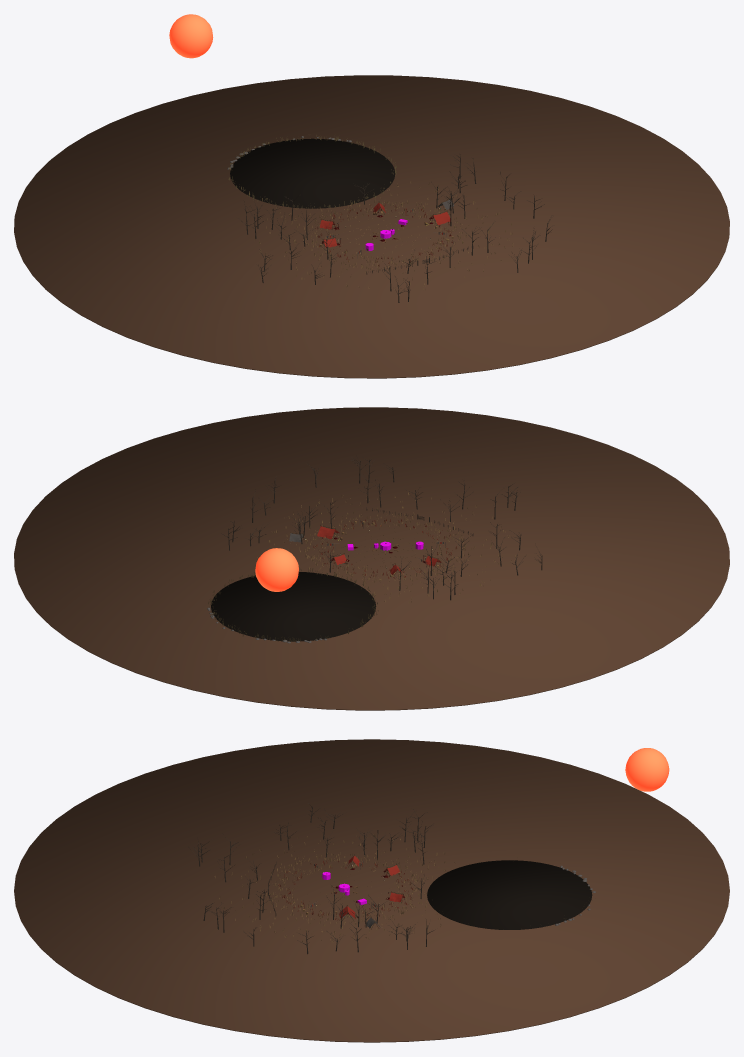
Rendered from passaros.glb.
3 renders of one model, top to bottom at view 1: azimuth 30°, elevation 25°; view 2: azimuth 150°, elevation 25°; view 3: azimuth 270°, elevation 25°, orthographic.
Visible parts, largest first — view 1: GROUND_earth, GROUND_lake, static_MAT_CLOTH_dead_wood, moon, static_MAT_CLOTH_dry_grass; view 2: GROUND_earth, GROUND_lake, static_MAT_CLOTH_dead_wood, moon, static_MAT_CLOTH_dry_grass; view 3: GROUND_earth, GROUND_lake, static_MAT_CLOTH_dead_wood, moon, static_MAT_CLOTH_dry_grass.
Part boxes in pixels (left/top/right/bottom): GROUND_earth: left=14, top=75, right=729, bottom=378; GROUND_lake: left=230, top=138, right=395, bottom=208; static_MAT_CLOTH_dead_wood: left=238, top=154, right=552, bottom=302; moon: left=169, top=14, right=213, bottom=58; static_MAT_CLOTH_dry_grass: left=254, top=181, right=513, bottom=289; GROUND_earth: left=14, top=407, right=729, bottom=710; GROUND_lake: left=211, top=572, right=376, bottom=641; static_MAT_CLOTH_dead_wood: left=221, top=456, right=542, bottom=600; moon: left=255, top=548, right=298, bottom=591; static_MAT_CLOTH_dry_grass: left=257, top=492, right=515, bottom=603; GROUND_earth: left=14, top=739, right=729, bottom=1042; GROUND_lake: left=427, top=860, right=592, bottom=929; static_MAT_CLOTH_dead_wood: left=188, top=803, right=435, bottom=954; moon: left=625, top=748, right=669, bottom=791; static_MAT_CLOTH_dry_grass: left=214, top=833, right=454, bottom=942.
Size of the model in its own units: 260 by 48.5 by 260.
